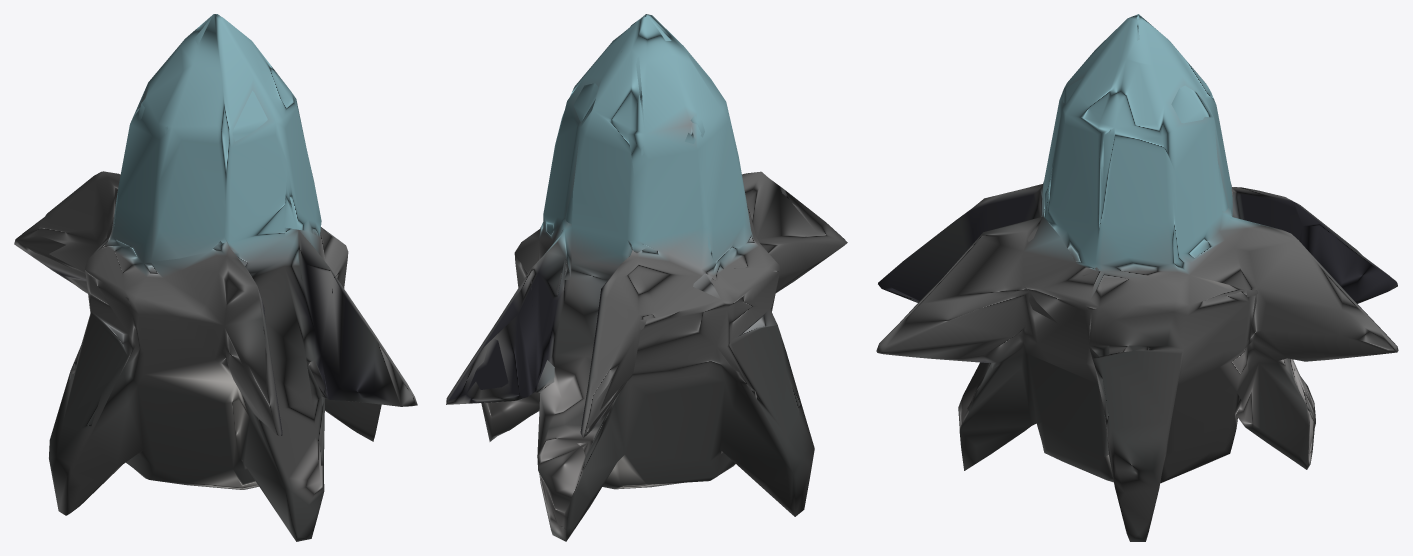
Rendered from gen3d-launch-lod0.glb.
3 views of the same model, side by side, from view 1: azimuth 30°, elevation 25°; view 2: azimuth 150°, elevation 25°; view 3: azimuth 270°, elevation 25° (orthographic).
Visible parts, largest first — view 1: part_0; view 2: part_0; view 3: part_0.
Boxes of the visible parts, x1,y1,x2,y2 form: part_0: (14, 14, 417, 541); part_0: (446, 14, 847, 541); part_0: (876, 14, 1398, 541).
Bounding box in the file's own units: 0.7092 × 0.9942 × 1.04.
